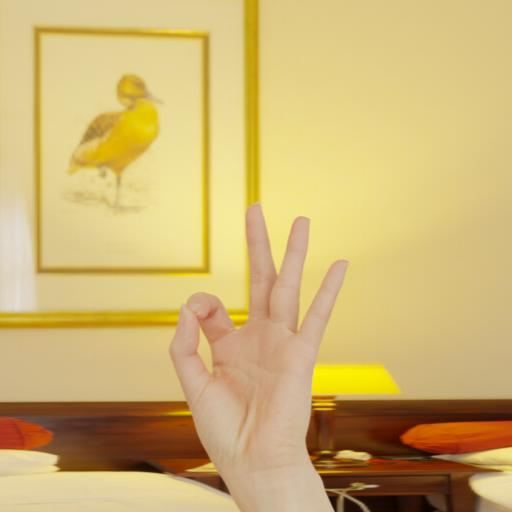F: (158, 186, 363, 495)
